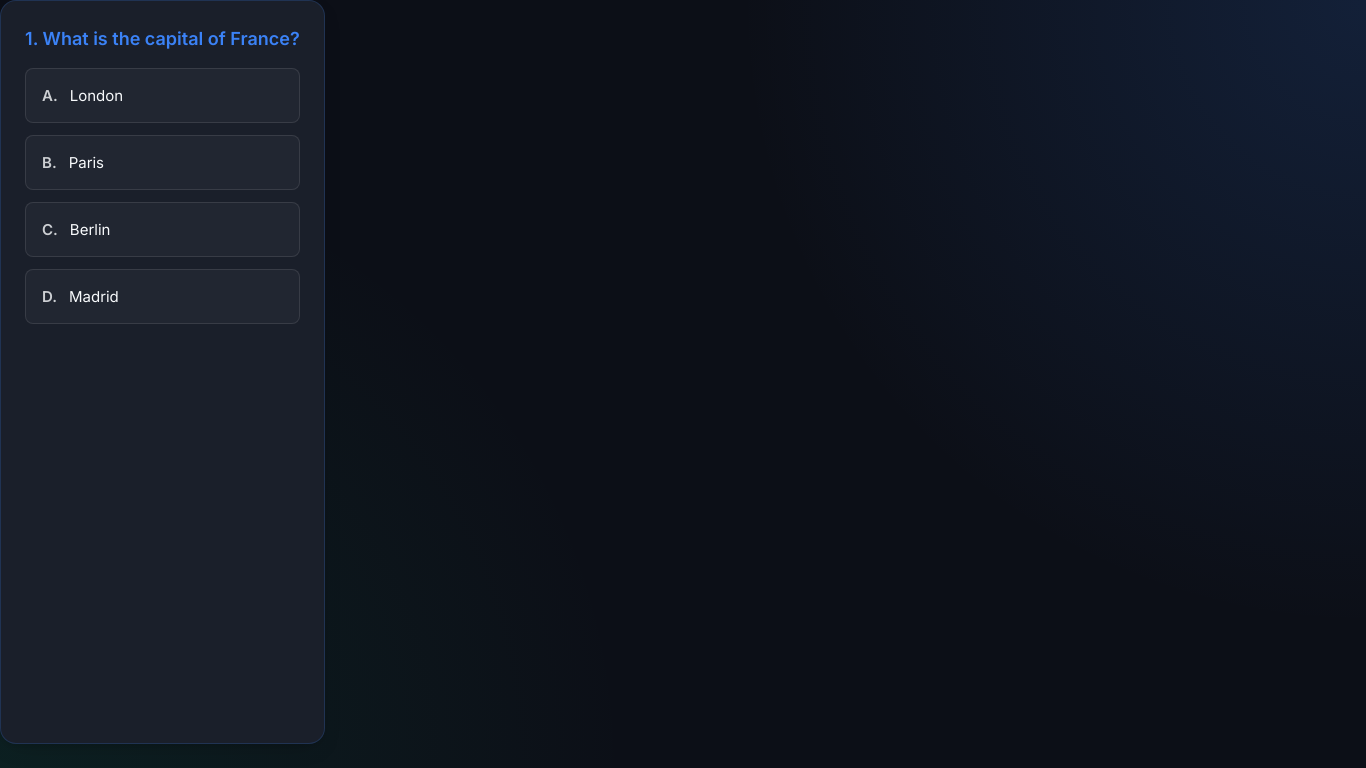
Test case: QuestionCard Component › handles correct answer selection
Click the button "B. Paris".
click(86, 162)  # box [25, 135, 300, 190]
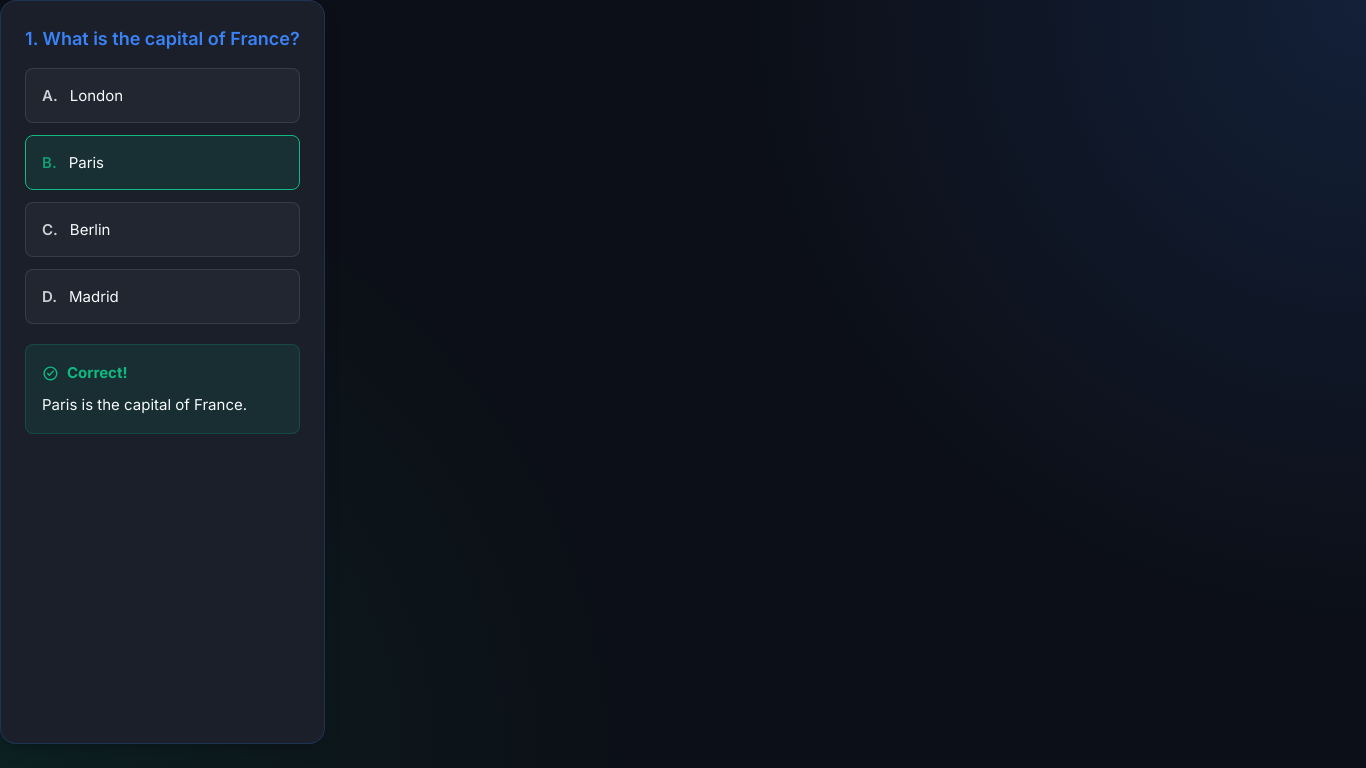
Now the text "Correct!" is shown, box [67, 361, 128, 385]
Now the text "Paris is the capital of France." is shown, box [42, 393, 283, 417]
Now the button "B. Paris" is disabled, box [25, 135, 300, 190]
